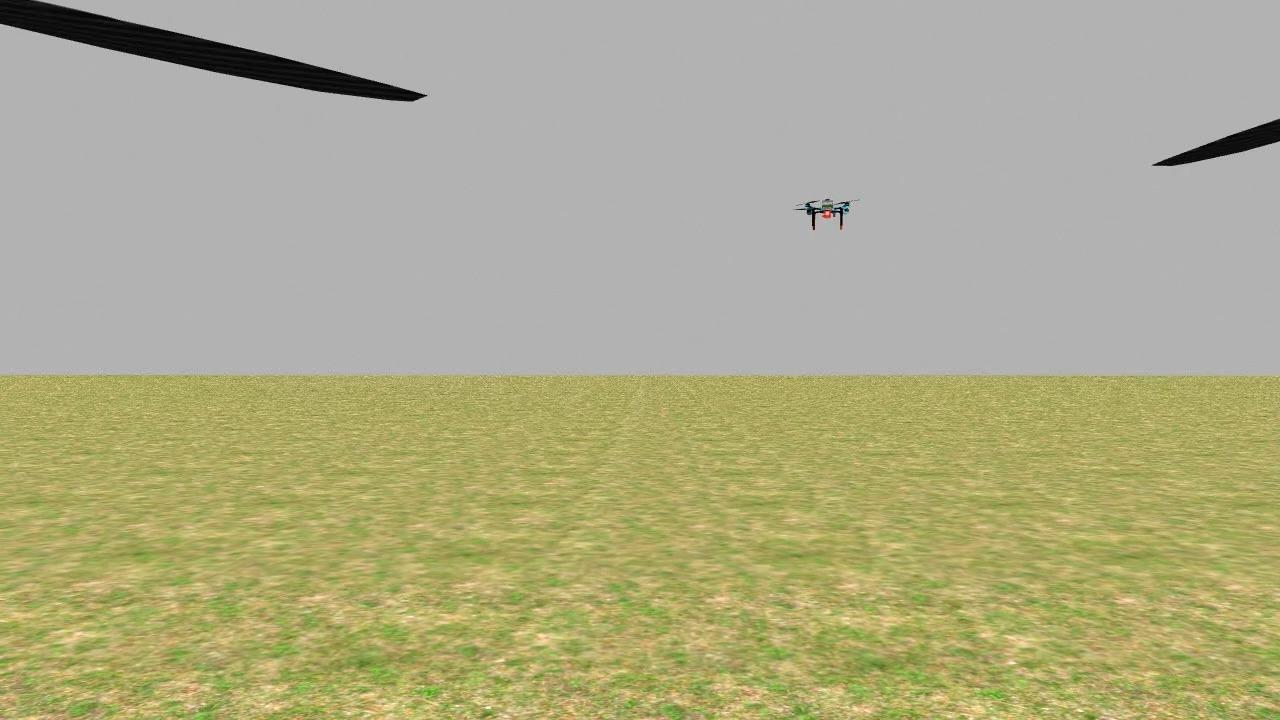UAV: (777, 179, 880, 248)
